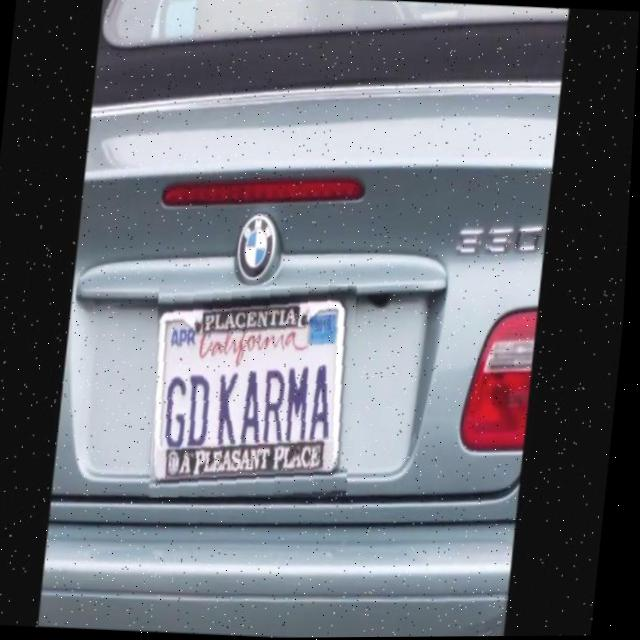LicensePlate: (145, 278, 369, 506)
